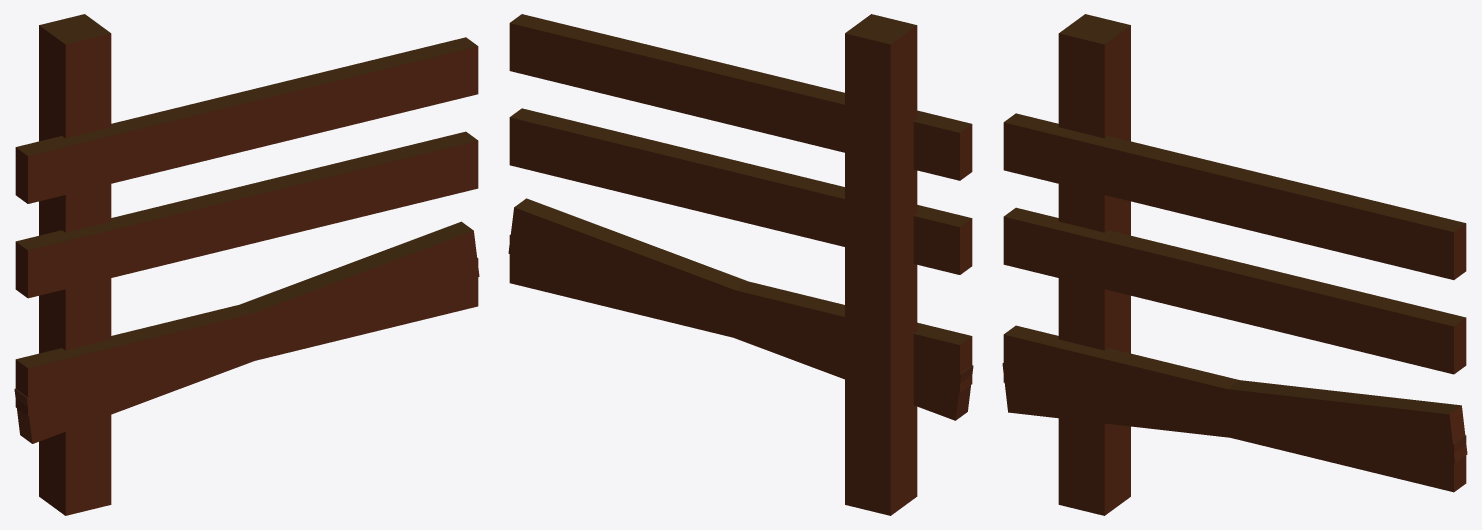
File: fence_variation_001.fbx
The picture shows the model from 3 angles, left to right: view 1: azimuth 30°, elevation 25°; view 2: azimuth 150°, elevation 25°; view 3: azimuth 330°, elevation 25°; orthographic projection.
Visible parts, largest first — view 1: Fence_variatio.002; view 2: Fence_variatio.002; view 3: Fence_variatio.002.
Boxes of the visible parts, bbox=[...] form: Fence_variatio.002: bbox=[14, 14, 479, 515]; Fence_variatio.002: bbox=[508, 14, 973, 515]; Fence_variatio.002: bbox=[1002, 14, 1467, 515].
Size of the model in its own units: 201 by 200 by 27.13.
